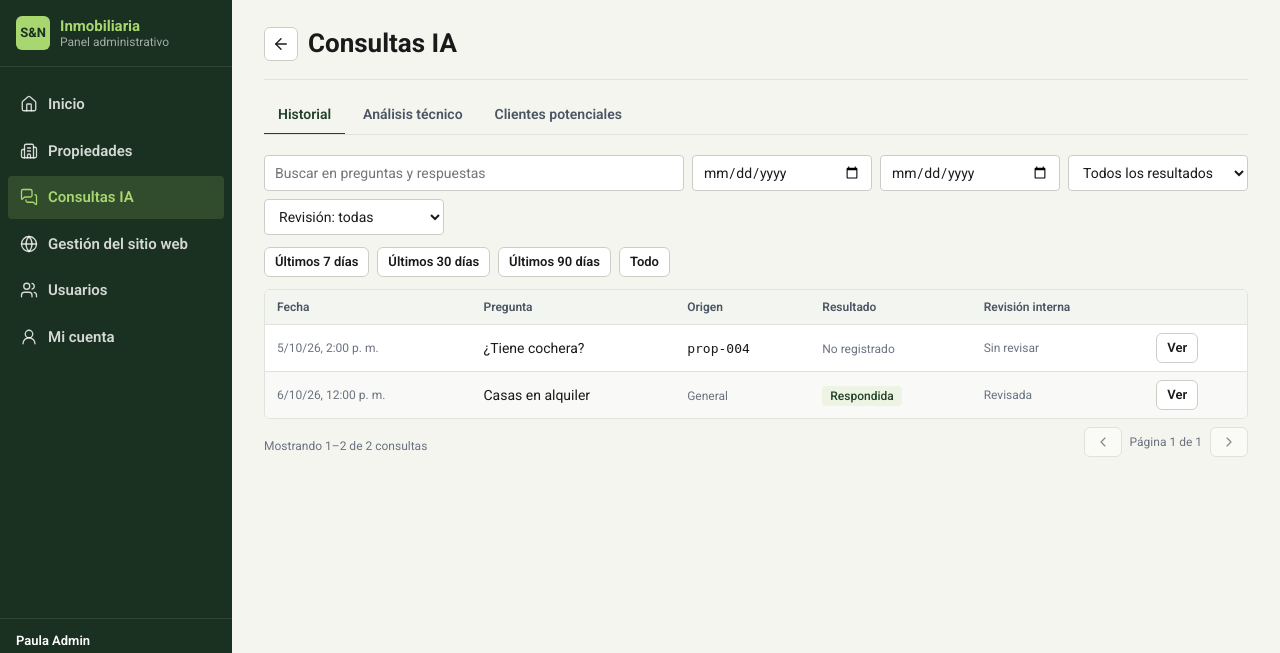
Test: Botón Volver › vuelve a la pestaña anterior, no siempre al historial
expect the text "¿Tiene cochera?" is shown: met, box [472, 324, 675, 372]
Click the link "Análisis técnico": (413, 114) [363, 106, 462, 122]
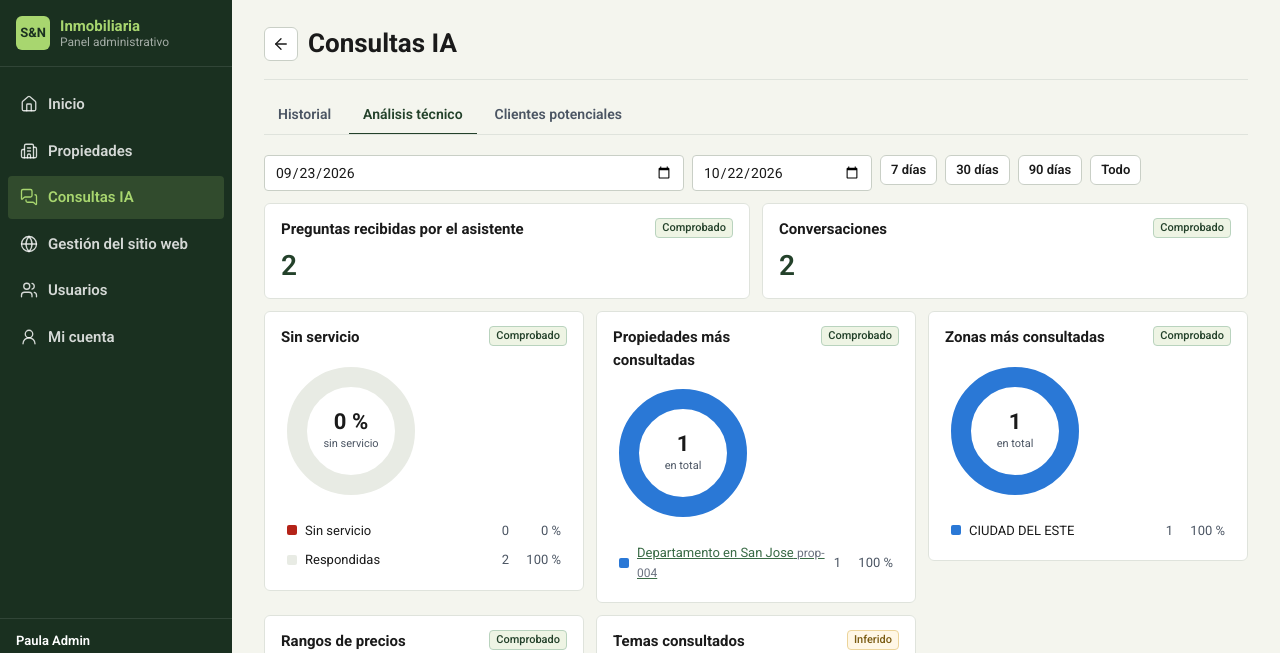
expect the text "Preguntas recibidas por el asistente" is shown: met, box [281, 218, 524, 240]
Click the link "Clientes potenciales": (558, 114) [495, 106, 622, 122]
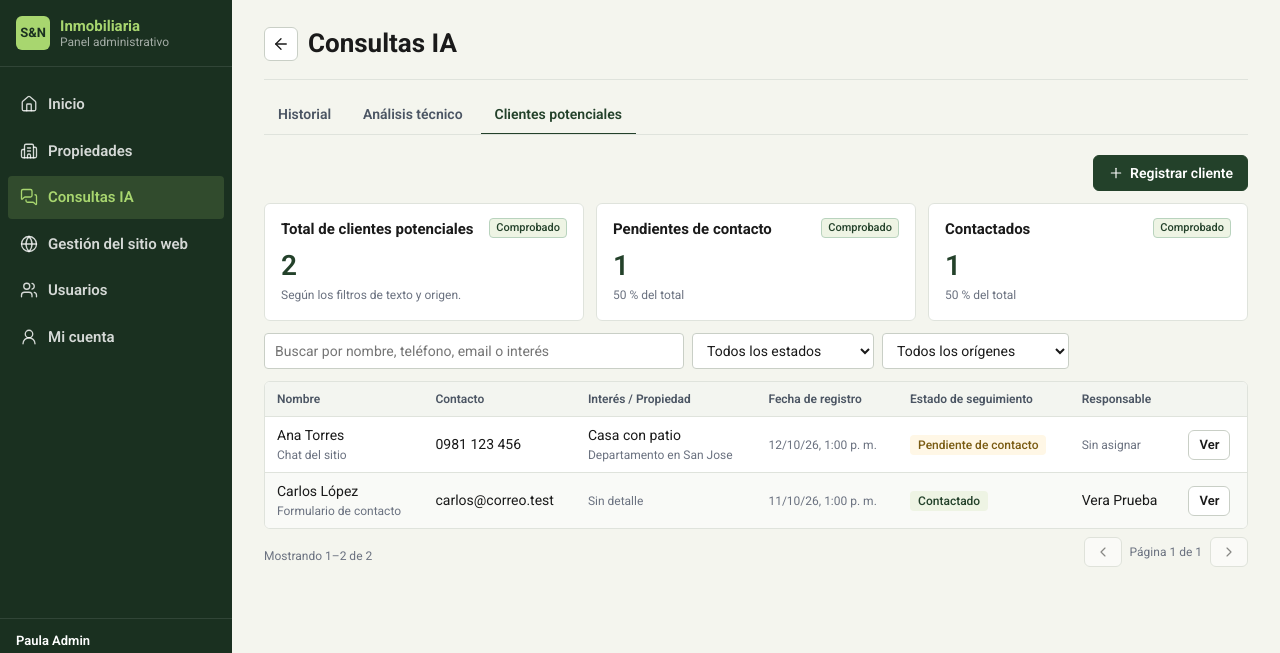
expect the text "Ana Torres" is shown: met, box [277, 427, 344, 443]
Click the button named "Volver a la pantalla anterior": (281, 44) [264, 26, 298, 60]
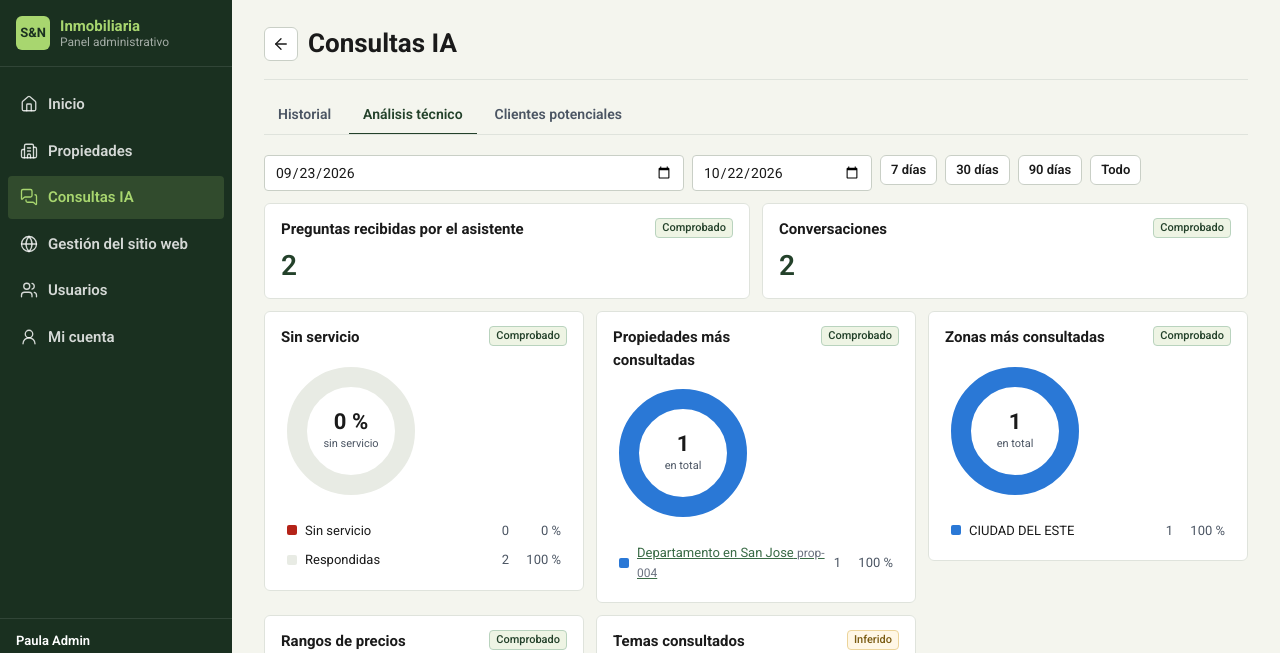
expect the text "Preguntas recibidas por el asistente" is shown: met, box [281, 218, 524, 240]
